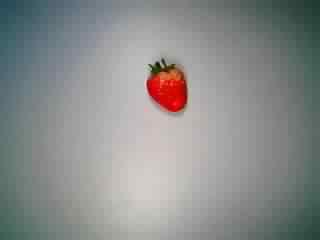strawberry: (132, 54, 198, 116)
